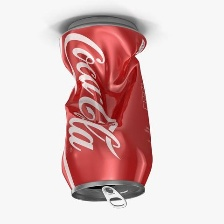can: (55, 13, 156, 209)
